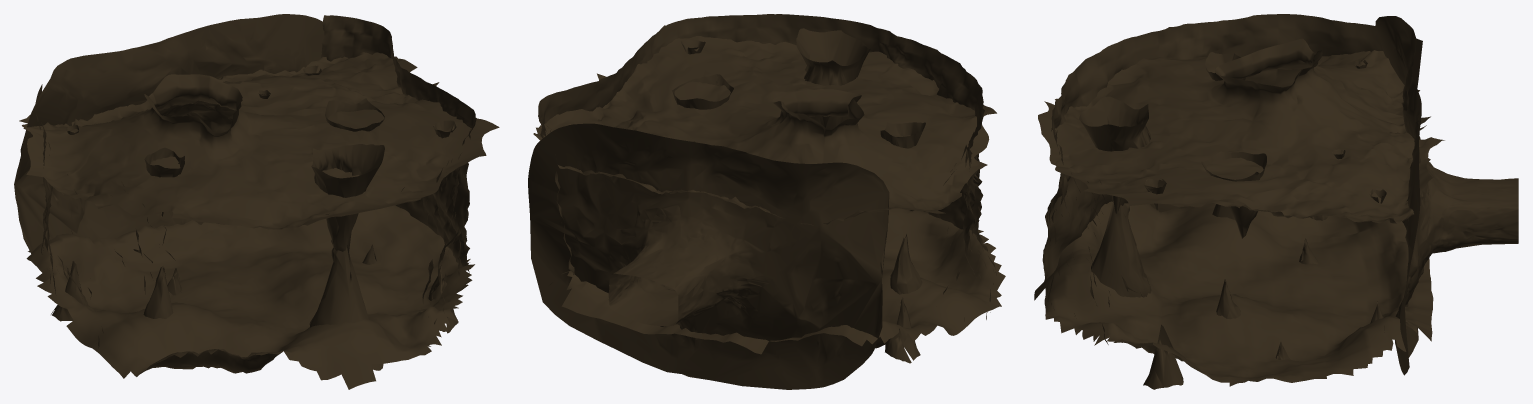
The model's file is CaveLowPolyFinal.fbx.
3 renders of one model, left to right at view 1: azimuth 30°, elevation 25°; view 2: azimuth 150°, elevation 25°; view 3: azimuth 270°, elevation 25°, orthographic.
Visible parts, largest first — view 1: Cave_Floor_LowPoly, Cave_Ceiling_LowPoly, CliffFace_LowPoly, Stalagmites_LowPoly, Cave_Wall_LowPoly; view 2: CliffFace_LowPoly, Cave_Ceiling_LowPoly, Cave_Floor_LowPoly, Cave_Wall_LowPoly, Stalagmites_LowPoly; view 3: Cave_Floor_LowPoly, Cave_Ceiling_LowPoly, Cave_Wall_LowPoly, CliffFace_LowPoly, Stalagmites_LowPoly.
Part boxes in pixels (left/top/right/bottom): Cave_Floor_LowPoly: left=26, top=205, right=474, bottom=389; Cave_Ceiling_LowPoly: left=19, top=52, right=499, bottom=229; CliffFace_LowPoly: left=14, top=14, right=324, bottom=272; Stalagmites_LowPoly: left=51, top=65, right=458, bottom=370; Cave_Wall_LowPoly: left=35, top=15, right=476, bottom=348; CliffFace_LowPoly: left=528, top=123, right=889, bottom=389; Cave_Ceiling_LowPoly: left=533, top=25, right=996, bottom=225; Cave_Floor_LowPoly: left=549, top=208, right=1005, bottom=354; Cave_Wall_LowPoly: left=538, top=14, right=996, bottom=321; Stalagmites_LowPoly: left=672, top=28, right=925, bottom=363; Cave_Floor_LowPoly: left=1034, top=201, right=1433, bottom=386; Cave_Ceiling_LowPoly: left=1038, top=38, right=1444, bottom=224; Cave_Wall_LowPoly: left=1042, top=14, right=1422, bottom=344; CliffFace_LowPoly: left=1375, top=16, right=1518, bottom=375; Stalagmites_LowPoly: left=1079, top=52, right=1386, bottom=389.
Bounding box in the file's own units: 200 × 118 × 211.
